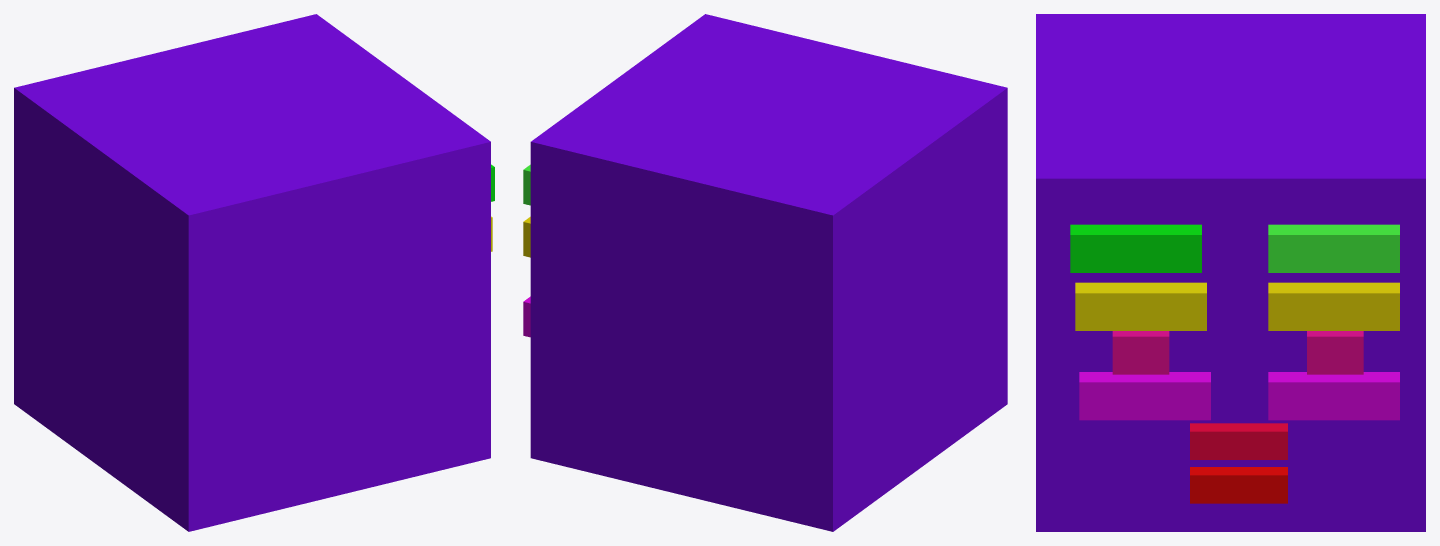
The picture shows the model from 3 angles, left to right: view 1: azimuth 30°, elevation 25°; view 2: azimuth 150°, elevation 25°; view 3: azimuth 270°, elevation 25°; orthographic projection. The views are drawn at different scales.
Parts seen in each view (by area): view 1: Cube; view 2: Cube; view 3: Cube, Cube.003, Cube.004, Cube.011, Cube.012, Cube.013, Cube.014, Cube.009, Cube.010, Cube.007, Cube.008.
Part boxes in pixels (<box>): Cube: <box>14,14,490,531</box>; Cube: <box>530,14,1007,531</box>; Cube: <box>1036,14,1425,531</box>; Cube.003: <box>1075,282,1206,330</box>; Cube.004: <box>1268,282,1399,330</box>; Cube.011: <box>1268,224,1399,272</box>; Cube.012: <box>1070,224,1201,272</box>; Cube.013: <box>1268,372,1399,420</box>; Cube.014: <box>1079,372,1210,420</box>; Cube.009: <box>1190,423,1287,459</box>; Cube.010: <box>1190,467,1287,503</box>; Cube.007: <box>1112,331,1169,374</box>; Cube.008: <box>1307,331,1363,374</box>.
Size of the model in its own units: 8.73 by 8.21 by 8.21.
